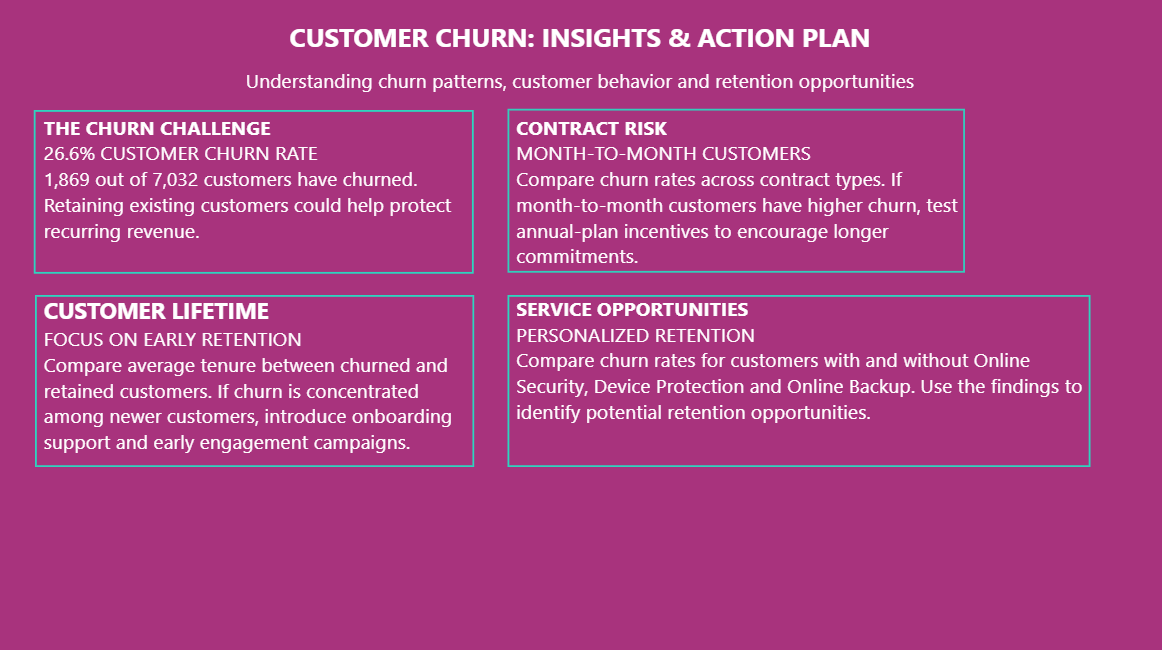

This screenshot's page, from the dashboard's own definition file:
{"tool":"powerbi","page":{"name":"Insights & Recommendations","canvas":[1920,1080],"ordinal":4},"visuals":[{"type":"textbox","box":[10,0,280,280],"z":0},{"type":"textbox","box":[10.3,30.9,1889.5,109.1],"z":1000},{"type":"textbox","box":[10.3,111.1,1889.5,76.2],"z":2000},{"type":"textbox","box":[72,485.8,708.1,284],"z":3000},{"type":"textbox","box":[72,187.3,708.1,255.2],"z":4000},{"type":"textbox","box":[850.1,187.3,741,269.6],"z":5000},{"type":"textbox","box":[850.1,485.8,965.4,284],"z":6000},{"type":"shape","box":[55.6,181.1,724.5,269.6],"z":7000},{"type":"shape","box":[836.7,180,753.3,270],"z":8000},{"type":"shape","box":[56.7,486.7,723.3,283.3],"z":9000},{"type":"shape","box":[836.7,486.7,960,283.3],"z":10000}]}

Visuals, with their boxes in screenshot pixels (x1, y1, x2, y2), scaled from the page's 1920x1080 canvas onto the 1162x650 screenshot:
textbox: x1=6, y1=0, x2=176, y2=169
textbox: x1=6, y1=19, x2=1150, y2=84
textbox: x1=6, y1=67, x2=1150, y2=113
textbox: x1=44, y1=292, x2=472, y2=463
textbox: x1=44, y1=113, x2=472, y2=266
textbox: x1=514, y1=113, x2=963, y2=275
textbox: x1=514, y1=292, x2=1099, y2=463
shape: x1=34, y1=109, x2=472, y2=271
shape: x1=506, y1=108, x2=962, y2=271
shape: x1=34, y1=293, x2=472, y2=463
shape: x1=506, y1=293, x2=1087, y2=463
